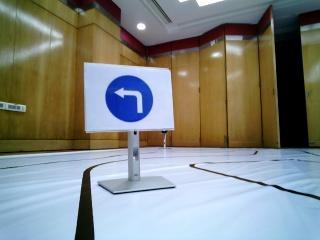left: (89, 70, 161, 121)
